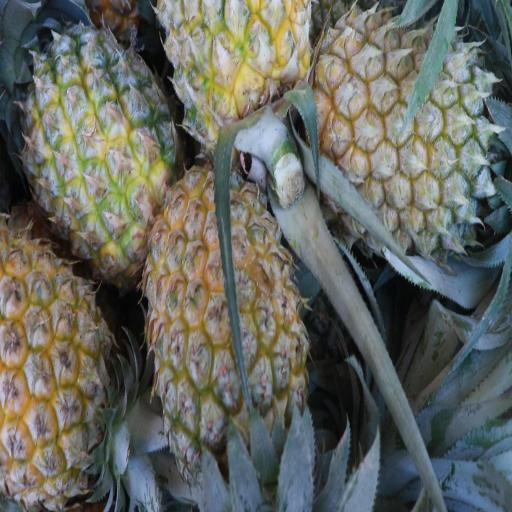------------------------------: (150, 158, 299, 456)
Pineapple - v8 v1: (22, 26, 169, 260), (0, 237, 127, 504), (163, 0, 312, 156)
